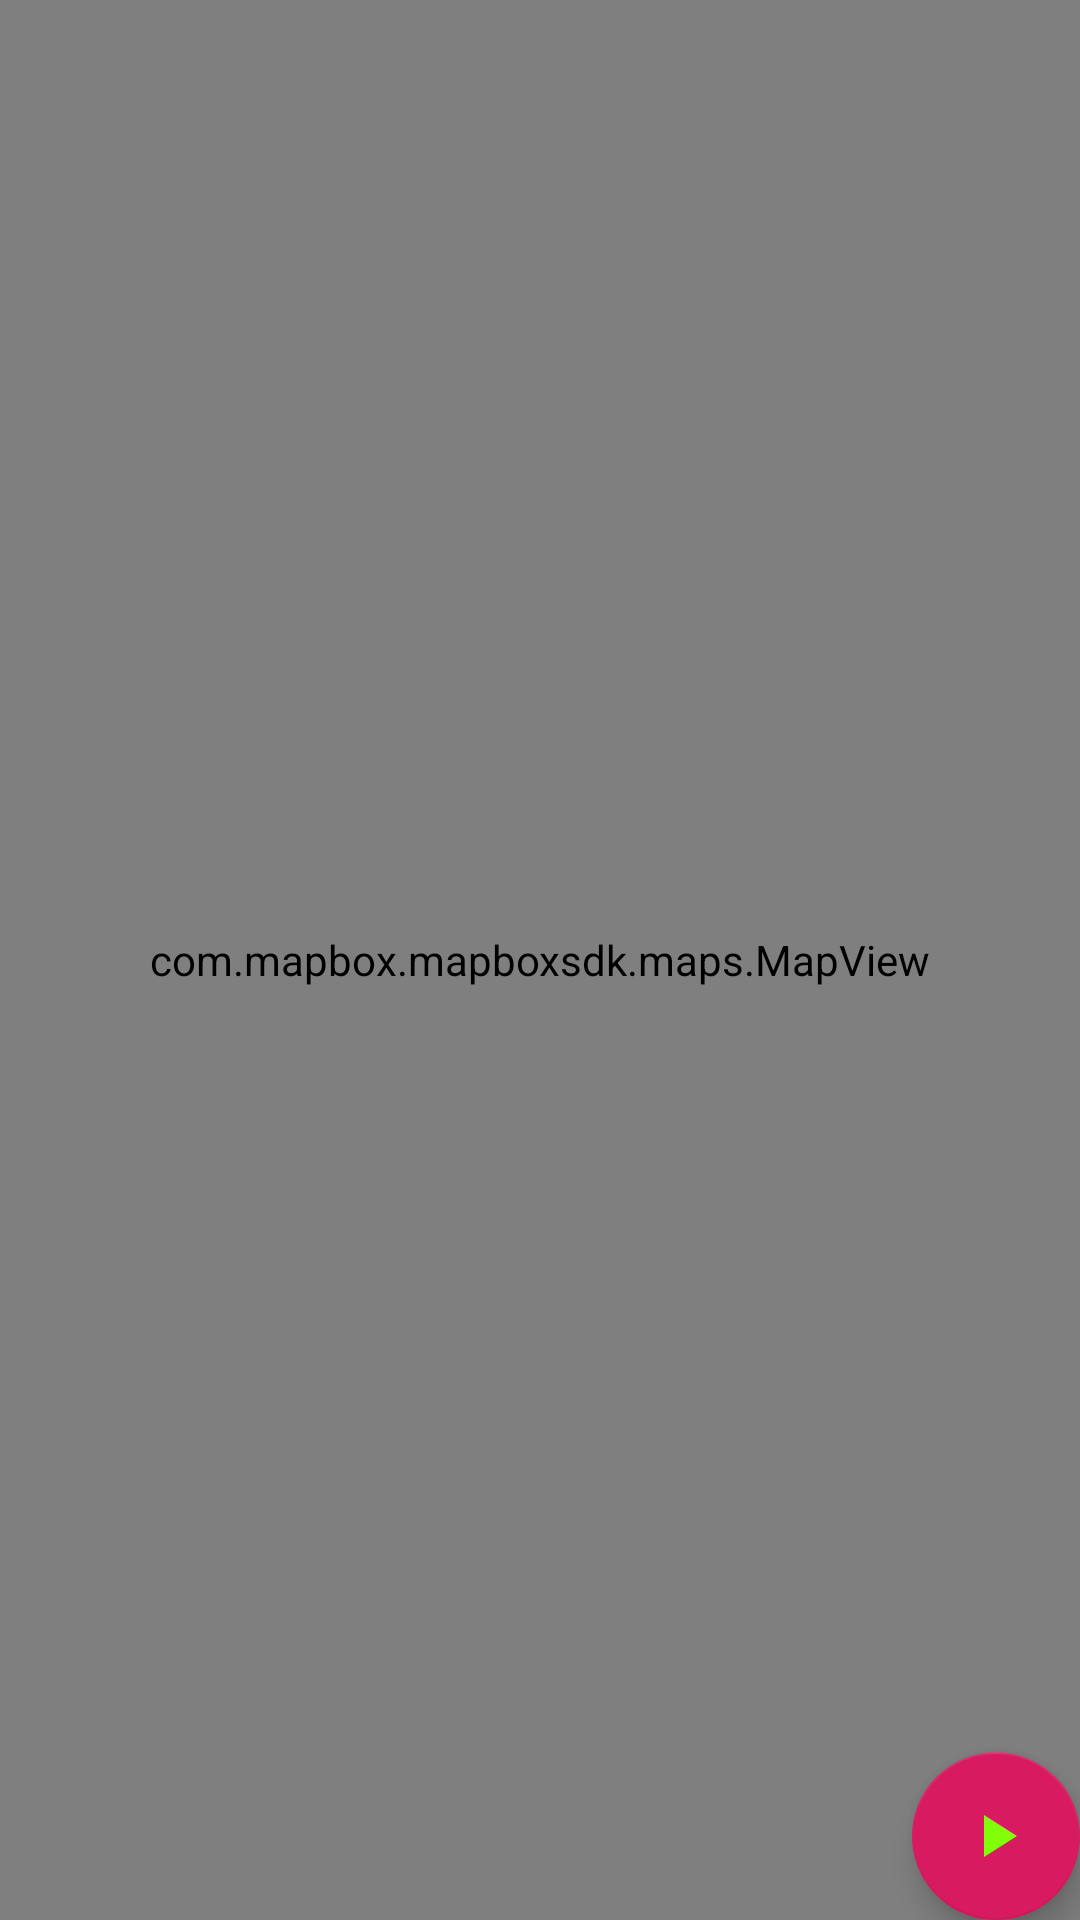

Icons on this 1080 x 1920 Android screen, each with its box as (x1, y1, x2, y2):
play arrow: (912, 1752, 1080, 1920)
